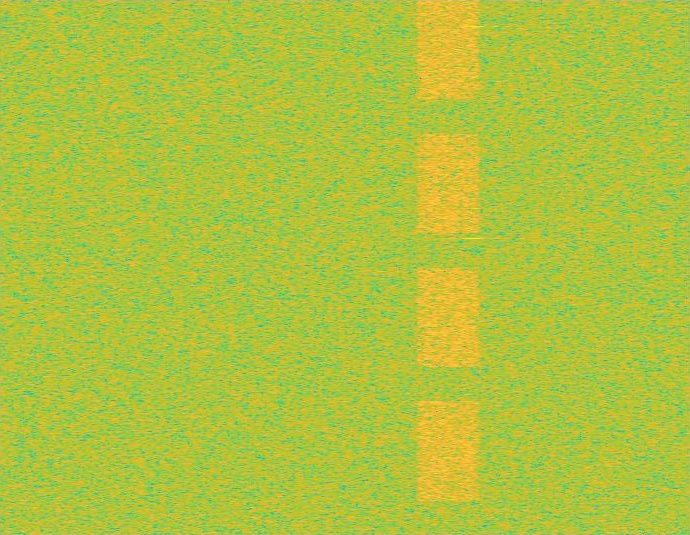5G: (414, 0, 483, 534)
Radar: (467, 0, 481, 534)
